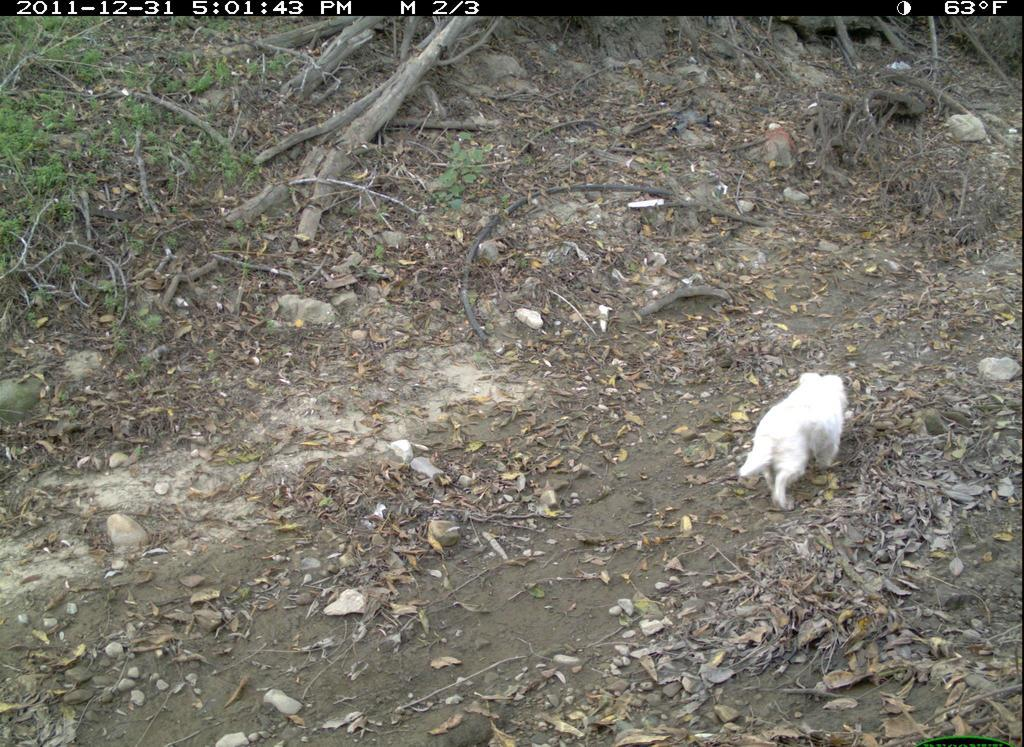dog: (726, 361, 857, 519)
